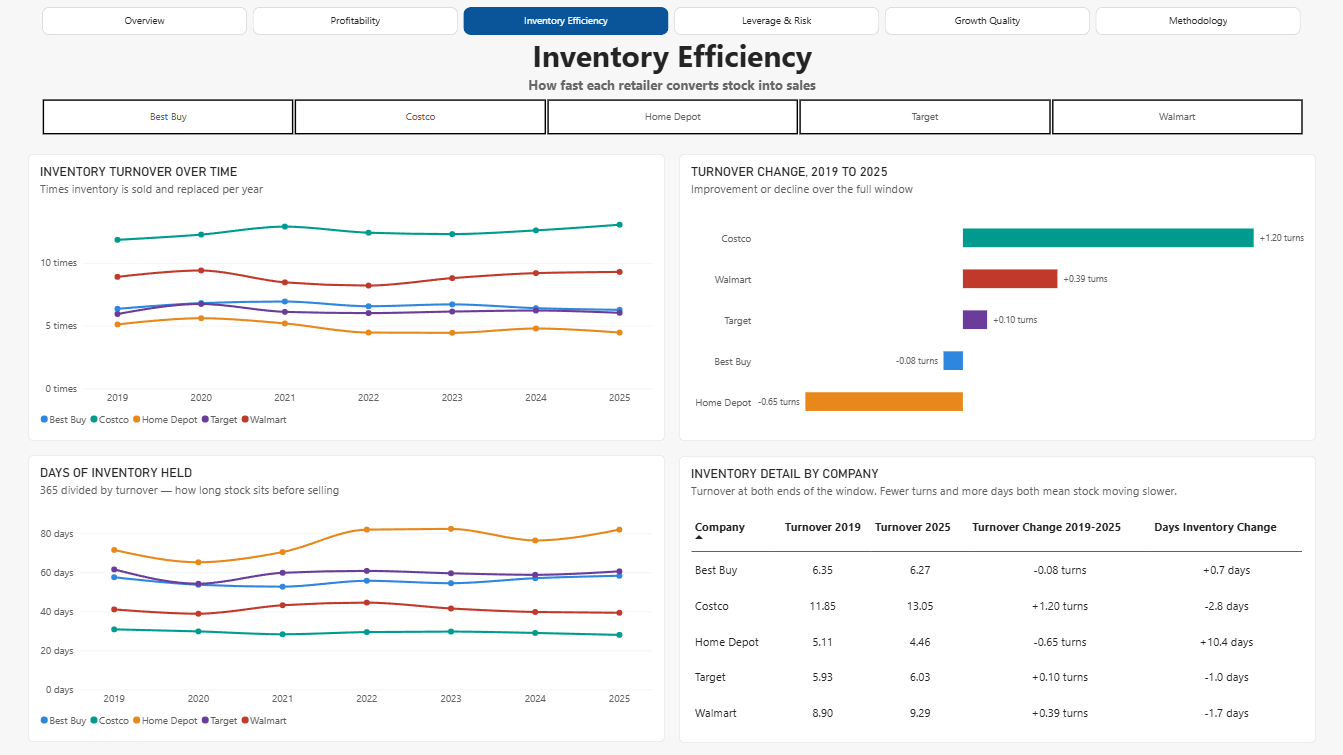

Layout of this report page (visuals, bound fields, positions):
{"tool":"powerbi","page":{"name":"Inventory Efficiency","canvas":[1920,1080],"ordinal":2},"visuals":[{"type":"textbox","title":"Inventory Efficiency","box":[40,50,1840,58],"z":0},{"type":"textbox","title":"How fast each retailer converts stock into sales","box":[40,108,1840,26],"z":1000},{"type":"lineChart","title":"INVENTORY TURNOVER OVER TIME","fields":{"Category":["Fiscal Year.Fiscal Year"],"Y":["_Measures.Inventory Turnover"],"Series":["Company.Company"]},"box":[40,220,910,410],"z":2000},{"type":"lineChart","title":"DAYS OF INVENTORY HELD","fields":{"Category":["Fiscal Year.Fiscal Year"],"Y":["_Measures.Days Inventory"],"Series":["Company.Company"]},"box":[40,650,910,410],"z":3000},{"type":"clusteredBarChart","title":"TURNOVER CHANGE, 2019 TO 2025","fields":{"Category":["Company.Company"],"Y":["Max(Financials.Turnover Change 2019-2025)"]},"box":[970,220,910,410],"z":4000},{"type":"tableEx","title":"INVENTORY DETAIL BY COMPANY","fields":{"Values":["Company.Company","Max(Financials.Turnover 2019)","Max(Financials.Turnover 2025)","Max(Financials.Turnover Change 2019-2025)","Max(Financials.Days Inventory Change)"]},"box":[969.6,651.5,910,410],"z":5000},{"type":"slicer","fields":{"Values":["Company.Company"]},"box":[40,140,1840,54],"z":6000},{"type":"pageNavigator","box":[60,10,1800,40],"z":7000}]}

Visuals, with their boxes in screenshot pixels (x1, y1, x2, y2), scaled from the page's 1920x1080 canvas onto the 1343x755 screenshot:
"Inventory Efficiency" textbox: 28, 35, 1315, 76
"How fast each retailer converts stock into sales" textbox: 28, 76, 1315, 94
"INVENTORY TURNOVER OVER TIME" lineChart: 28, 154, 665, 440
"DAYS OF INVENTORY HELD" lineChart: 28, 454, 665, 741
"TURNOVER CHANGE, 2019 TO 2025" clusteredBarChart: 678, 154, 1315, 440
"INVENTORY DETAIL BY COMPANY" tableEx: 678, 455, 1315, 742
slicer - Company.Company: 28, 98, 1315, 136
pageNavigator: 42, 7, 1301, 35
